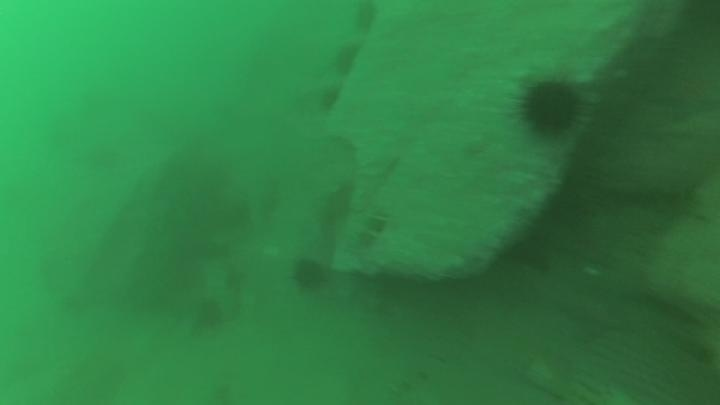echinus: (513, 74, 586, 141), (289, 255, 331, 294), (190, 295, 228, 334), (330, 40, 364, 80), (350, 1, 381, 37), (315, 82, 344, 115)
